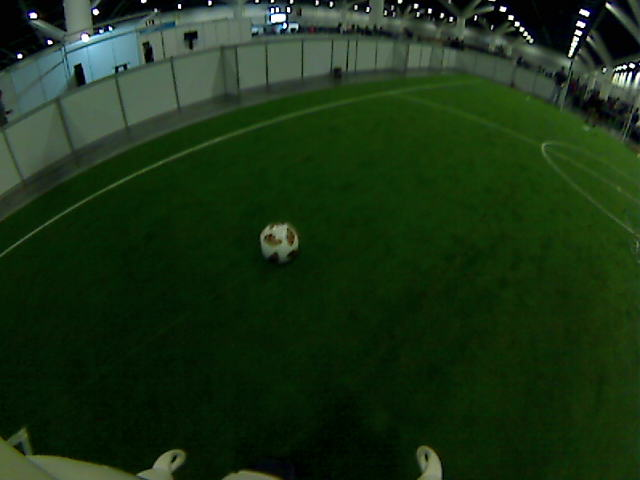ball: (257, 220, 297, 260)
goalpost: (555, 69, 567, 112), (622, 101, 626, 142)
